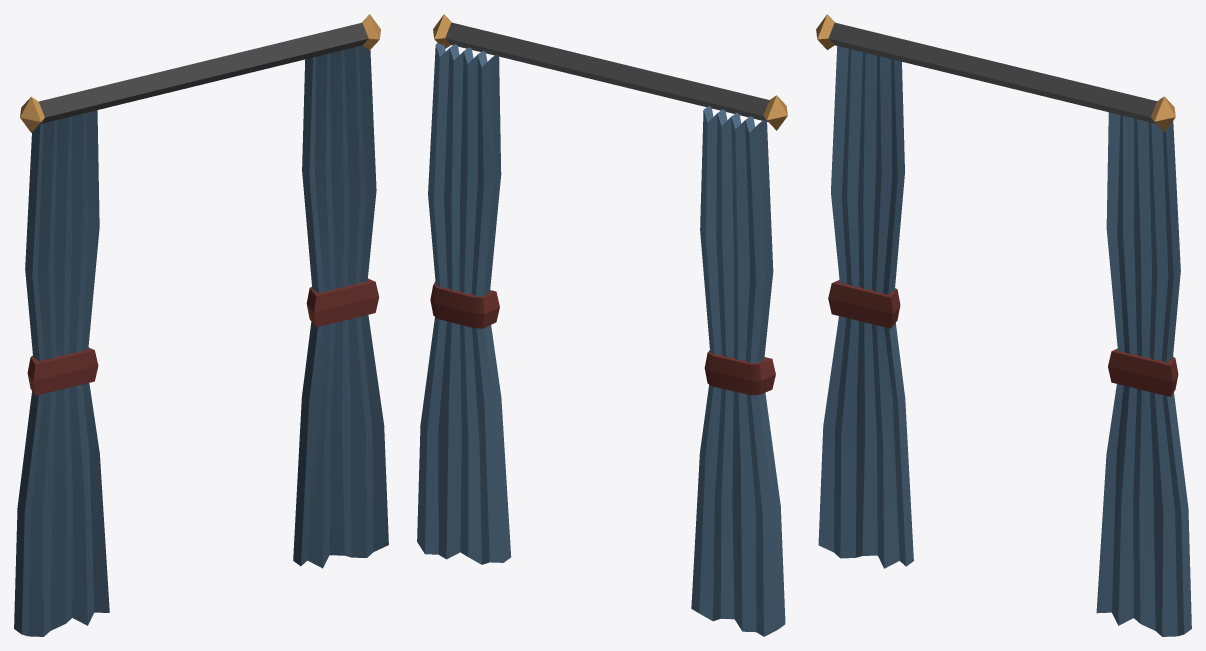
Rendered from SM_Bld_House_Window_Curtains_01.fbx.
3 views of the same model, side by side, from view 1: azimuth 30°, elevation 25°; view 2: azimuth 150°, elevation 25°; view 3: azimuth 330°, elevation 25° (orthographic).
Visible parts, largest first — view 1: SM_Bld_House_Window_Curtains_01; view 2: SM_Bld_House_Window_Curtains_01; view 3: SM_Bld_House_Window_Curtains_01.
Part boxes in pixels (x1,y1,x2,y2): SM_Bld_House_Window_Curtains_01: [14, 14, 388, 636]; SM_Bld_House_Window_Curtains_01: [417, 14, 787, 636]; SM_Bld_House_Window_Curtains_01: [816, 14, 1191, 636].
Bounding box in the file's own units: 152 × 214 × 16.32.
